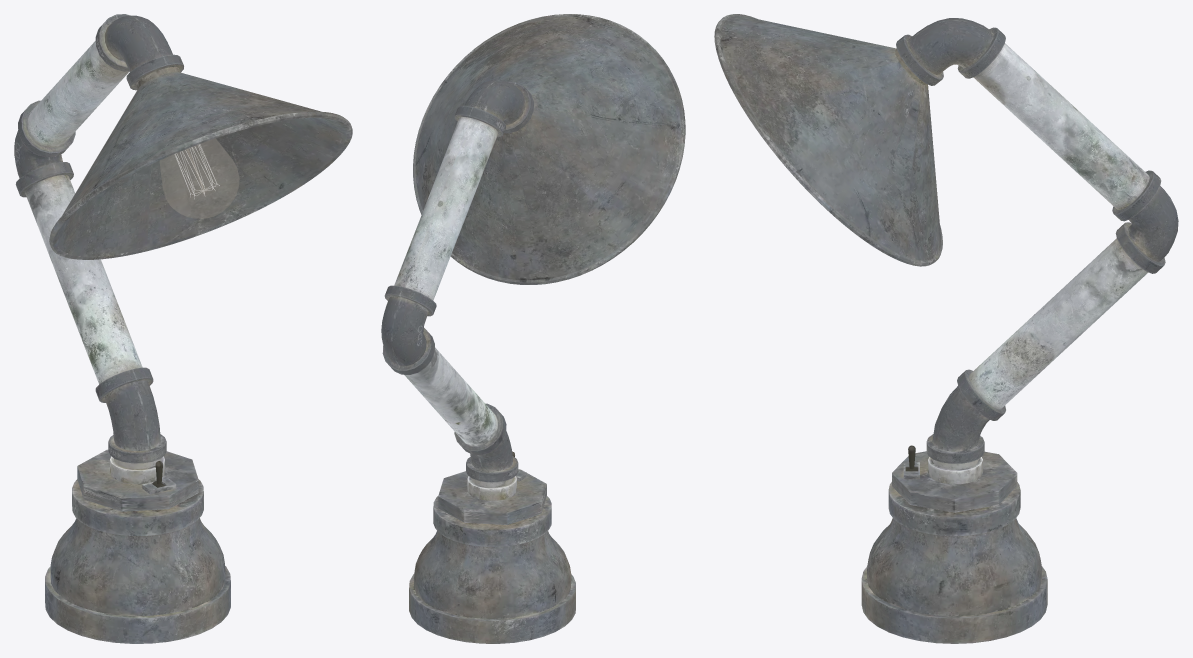
The model's file is industrial_pipe_lamp.glb.
3 renders of one model, left to right at view 1: azimuth 30°, elevation 25°; view 2: azimuth 150°, elevation 25°; view 3: azimuth 270°, elevation 25°, orthographic. The views are drawn at different scales.
Visible parts, largest first — view 1: industrial_pipe_lamp, industrial_pipe_lamp_bulb; view 2: industrial_pipe_lamp; view 3: industrial_pipe_lamp.
Boxes of the visible parts, left/top/right/bottom form: industrial_pipe_lamp: left=14, top=14, right=352, bottom=643; industrial_pipe_lamp_bulb: left=160, top=138, right=239, bottom=218; industrial_pipe_lamp: left=381, top=14, right=685, bottom=643; industrial_pipe_lamp: left=714, top=14, right=1178, bottom=643.
Bounding box in the file's own units: 0.183 × 0.3641 × 0.2621.
Materials: 2 (2 with a texture image).
